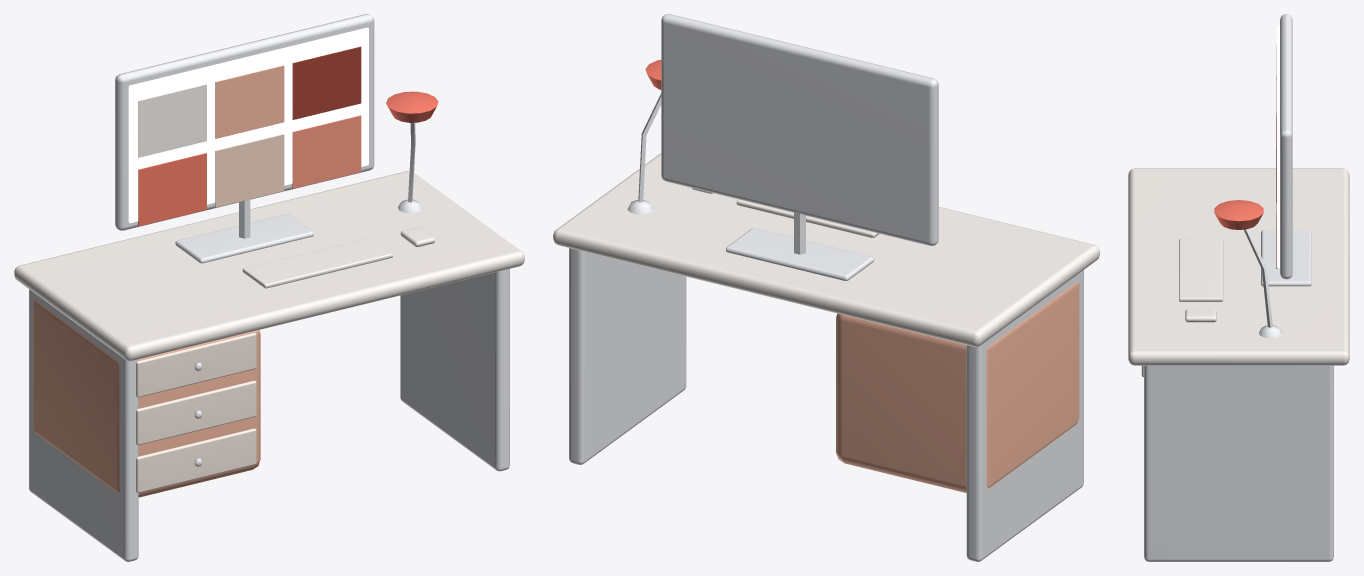
Rendered from desk_monitor_station.glb.
3 renders of one model, left to right at view 1: azimuth 30°, elevation 25°; view 2: azimuth 150°, elevation 25°; view 3: azimuth 270°, elevation 25°, orthographic. The views are drawn at different scales.
Parts seen in each view (by area): view 1: desk_monitor_station; view 2: desk_monitor_station; view 3: desk_monitor_station.
Boxes of the visible parts, x1,y1,x2,y2 form: desk_monitor_station: (14, 14, 524, 561); desk_monitor_station: (553, 14, 1099, 561); desk_monitor_station: (1128, 14, 1349, 561).
Size of the model in its own units: 1.4 by 1.4 by 0.7.
